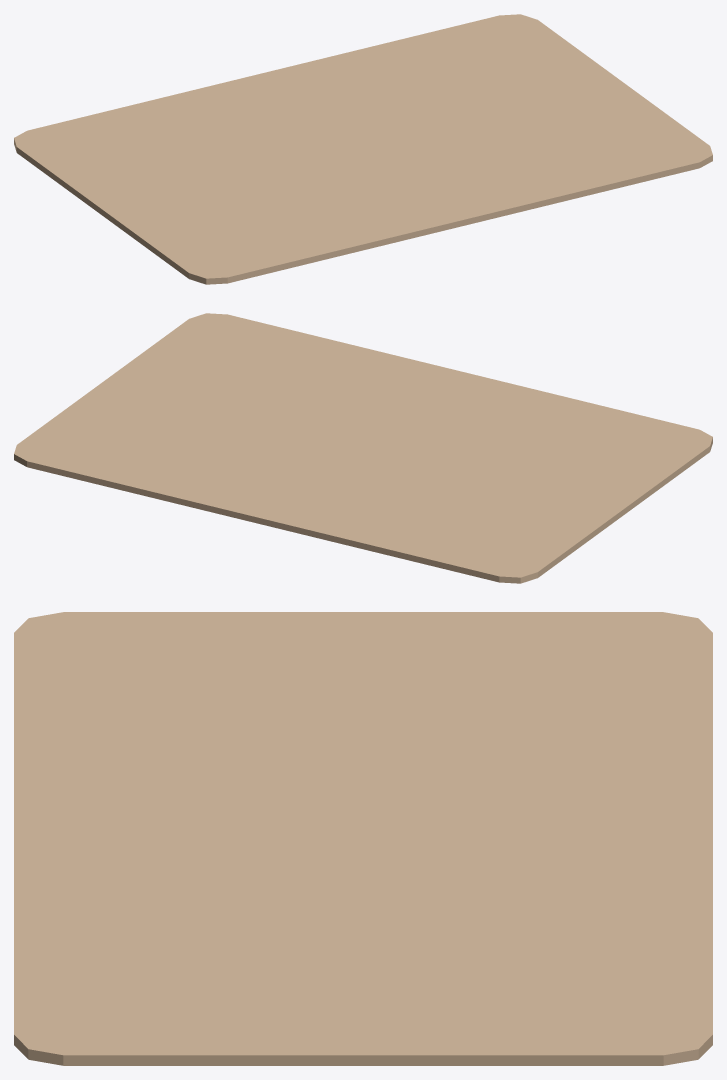
Rendered from Carpet1_C1.fbx.
3 views of the same model, one above another, from view 1: azimuth 30°, elevation 25°; view 2: azimuth 150°, elevation 25°; view 3: azimuth 270°, elevation 25° (orthographic). The views are drawn at different scales.
Parts seen in each view (by area): view 1: Carpet1_C1; view 2: Carpet1_C1; view 3: Carpet1_C1.
Boxes of the visible parts, bbox=[...] form: Carpet1_C1: bbox=[14, 14, 712, 284]; Carpet1_C1: bbox=[14, 313, 712, 583]; Carpet1_C1: bbox=[14, 612, 712, 1065].
Size of the model in its own units: 90 by 1 by 60.
